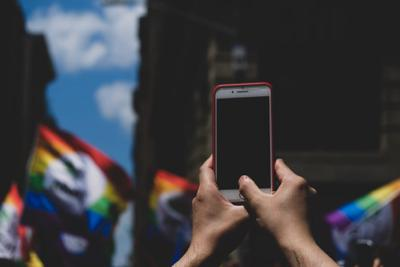cell-phone: (211, 82, 276, 208)
